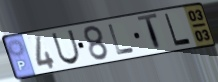4: (34, 34, 56, 71)
8: (81, 24, 110, 62)
L: (163, 12, 193, 48), (107, 23, 137, 57)
T: (135, 11, 164, 52)
U: (50, 29, 82, 66)
